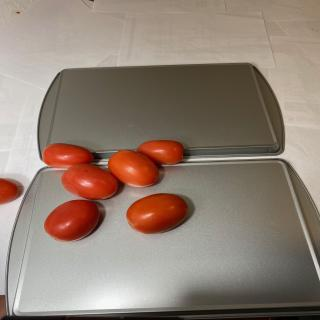Tomato: (126, 193, 189, 234), (44, 199, 100, 242), (61, 163, 118, 200), (108, 150, 159, 188), (42, 143, 94, 168), (136, 140, 184, 165), (0, 178, 19, 205)
